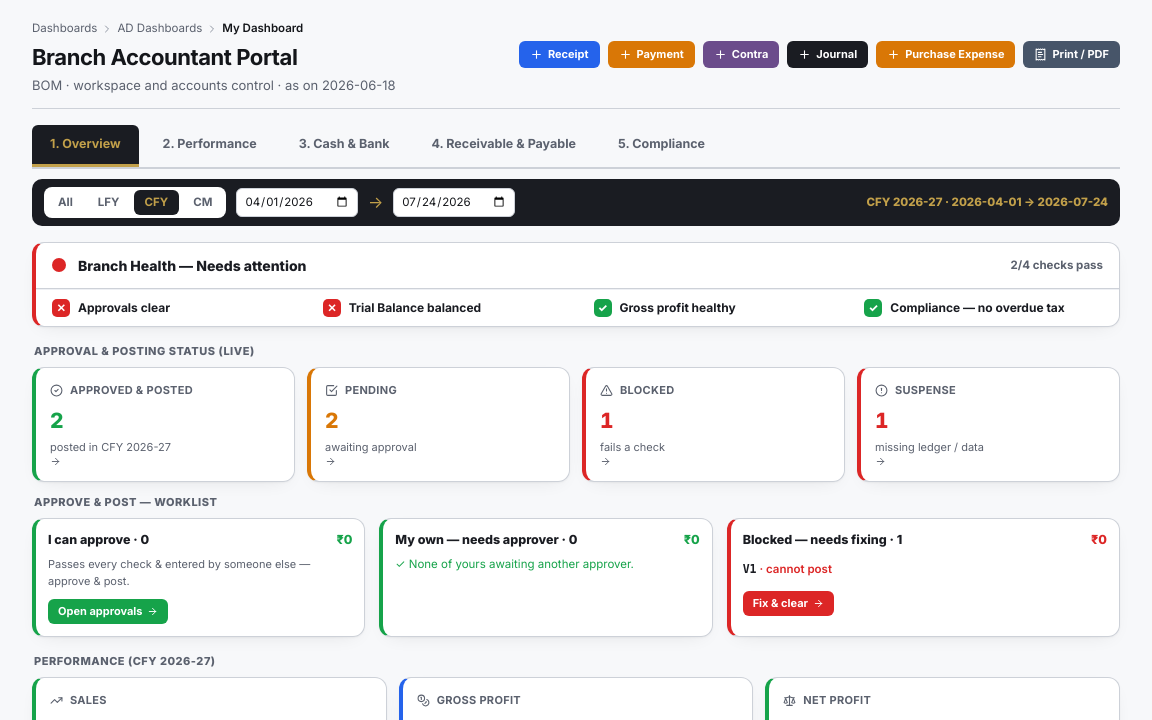
Test: accountant workspace — screens render › Dashboard cockpit: five workspace tabs + global period bar
expect the button "CFY" is shown: met, box [134, 190, 179, 215]
expect the button "LFY" is shown: met, box [87, 190, 130, 215]
# Tab 4 — Receivable & Payable: keep the full R&P content
Click the button "4. Receivable & Payable".
click(504, 146)  # box [414, 125, 594, 167]
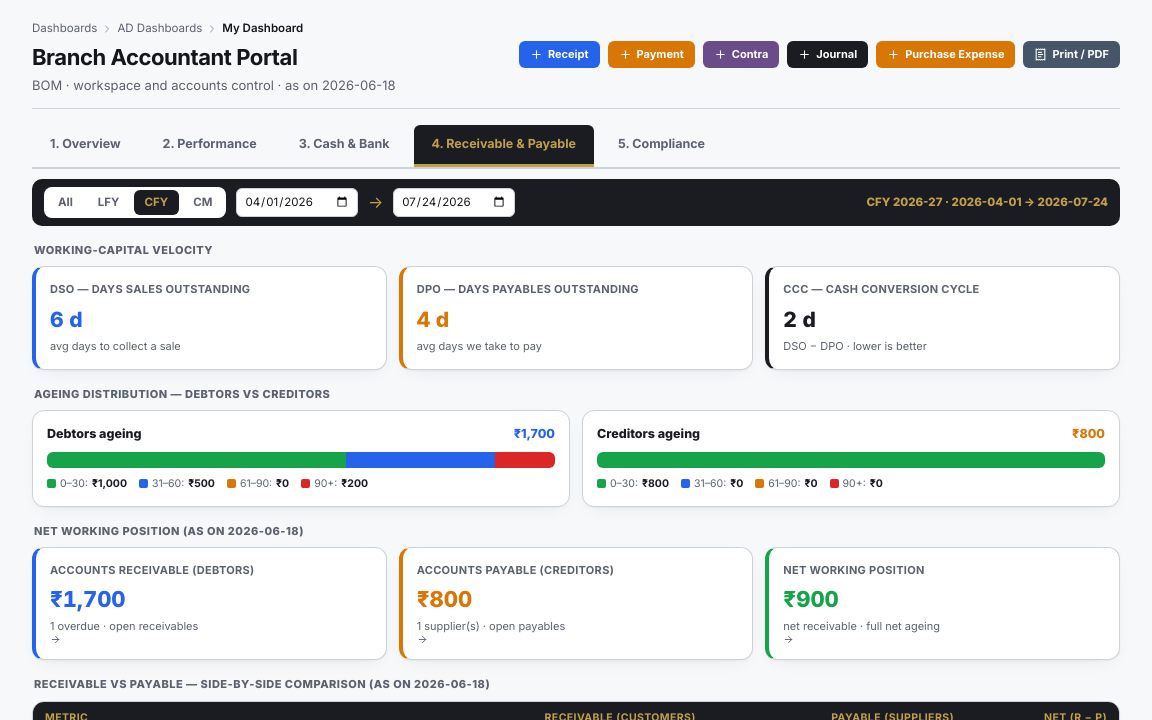
expect the text "Accounts Receivable (Debtors)" is shown: met, box [50, 563, 255, 577]
expect the text "Accounts Payable (Creditors)" is shown: met, box [417, 563, 614, 577]
expect the text "Net Working Position" is shown: met, box [783, 563, 925, 577]
# Tab 5 — Compliance: statutory tiles + GST/ITC + master health + RCM
Click the button "5. Compliance".
click(662, 146)  # box [600, 125, 723, 167]
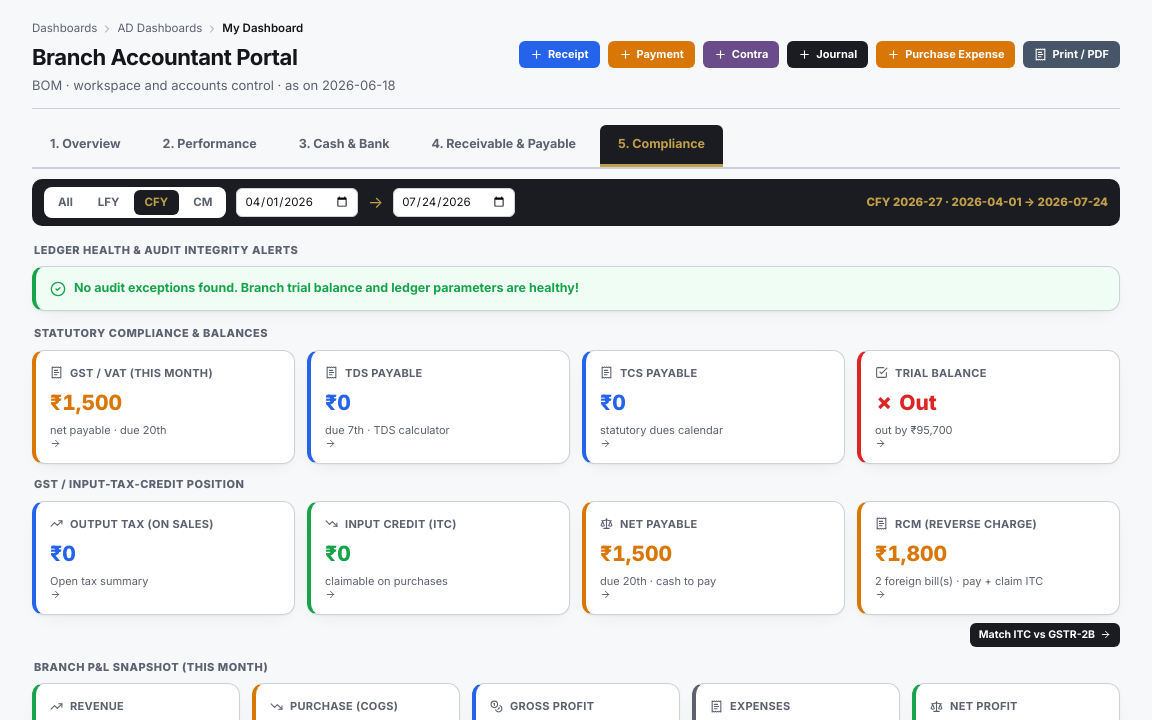
expect the text "TDS Payable" is shown: met, box [325, 366, 422, 380]
expect the text "Input Credit (ITC)" is shown: met, box [325, 516, 457, 530]
expect the text "RCM (Reverse Charge)" is shown: met, box [875, 516, 1037, 530]
# Tab 2 — Performance: P&L snapshot + targets + budget
Click the button "2. Performance".
click(210, 146)  # box [145, 125, 275, 167]
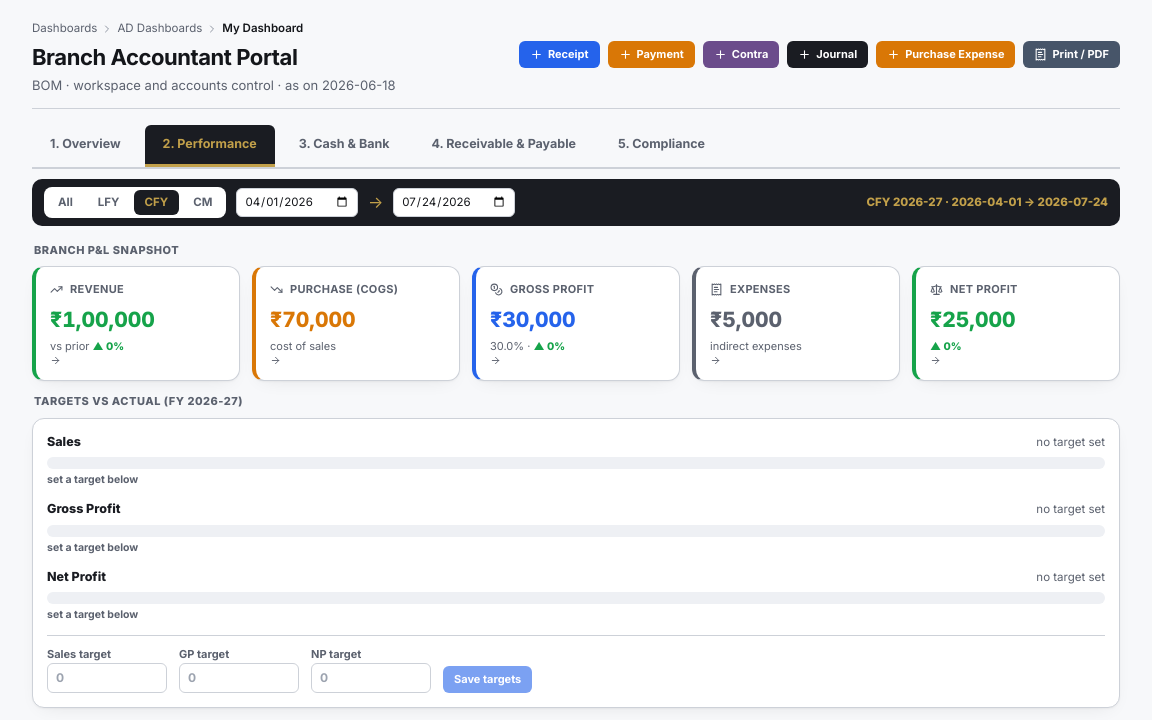
expect the text "Revenue" is shown: met, box [50, 282, 124, 296]
expect the text "Targets vs Actual (FY 2026-27)" is shown: met, box [34, 394, 243, 408]
expect the 1st text "no target set" is shown: met, box [1036, 434, 1105, 451]
# Tab 3 — Cash & Bank: cash + PDC
Click the button "3. Cash & Bank".
click(344, 146)  # box [281, 125, 408, 167]
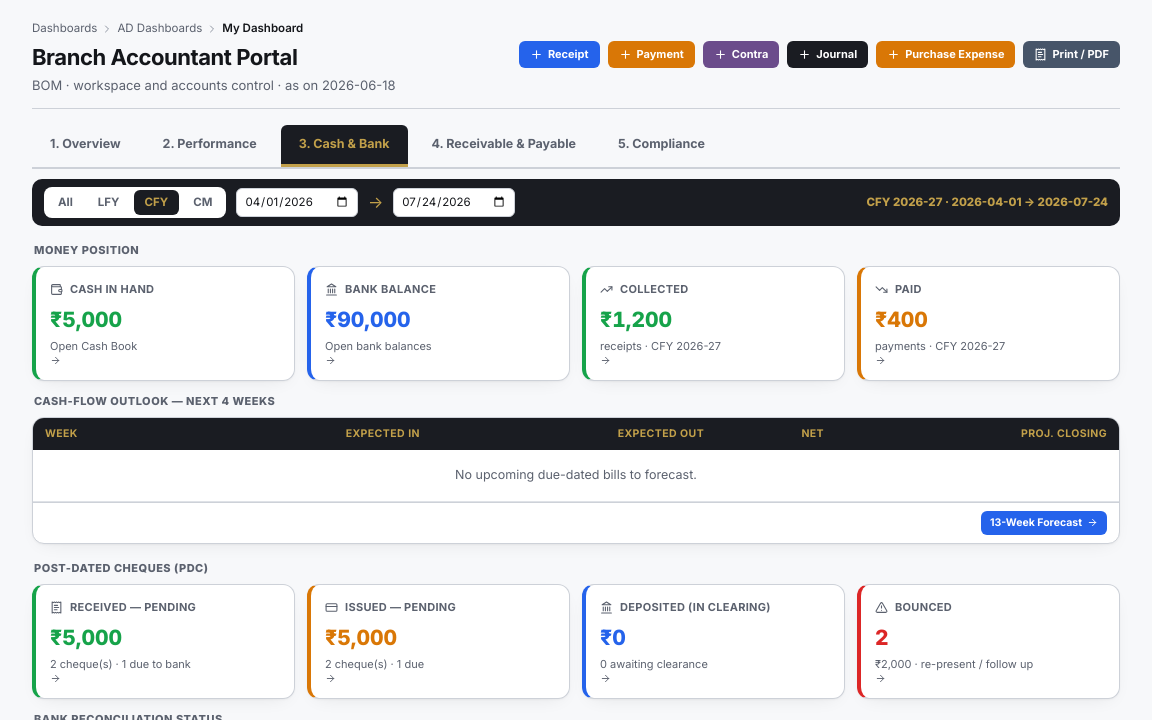
expect the text "Cash in Hand" is shown: met, box [50, 282, 154, 296]
expect the text "Post-Dated Cheques (PDC)" is shown: met, box [34, 560, 208, 574]
